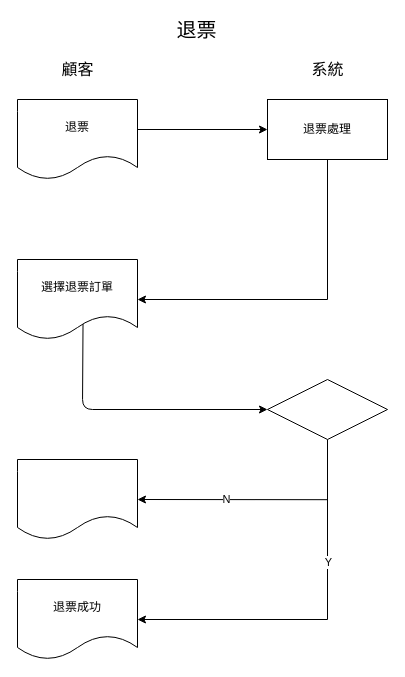
This 405x677 diagram has some shape labels left out. The centre of each missing label's shape, as x and y in pixels:
"取消訂單？" goes at point 327,409.
"退票失敗" goes at point 77,499.
